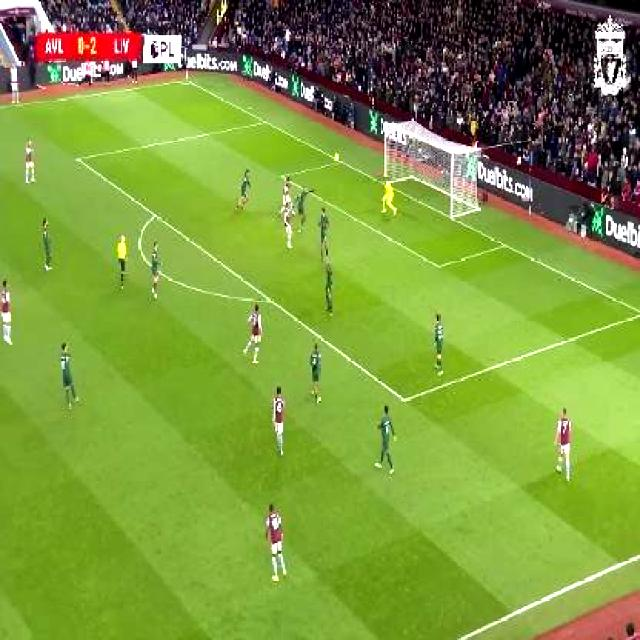bigarea_bottom_inner: (396, 386, 412, 411)
bigarea_top_inner: (70, 148, 84, 168)
bigarea_top_outter: (258, 114, 271, 128)
bottom_arc_area_intersection: (261, 289, 277, 309)
corner: (177, 74, 194, 88)
smallarea_bottom_inner: (429, 252, 446, 277)
smallarea_bottom_outter: (495, 234, 511, 252)
smallarea_top_inner: (274, 166, 288, 183)
smallarea_top_outter: (331, 152, 346, 168)
top_arc_area_intersection: (146, 204, 160, 222)
